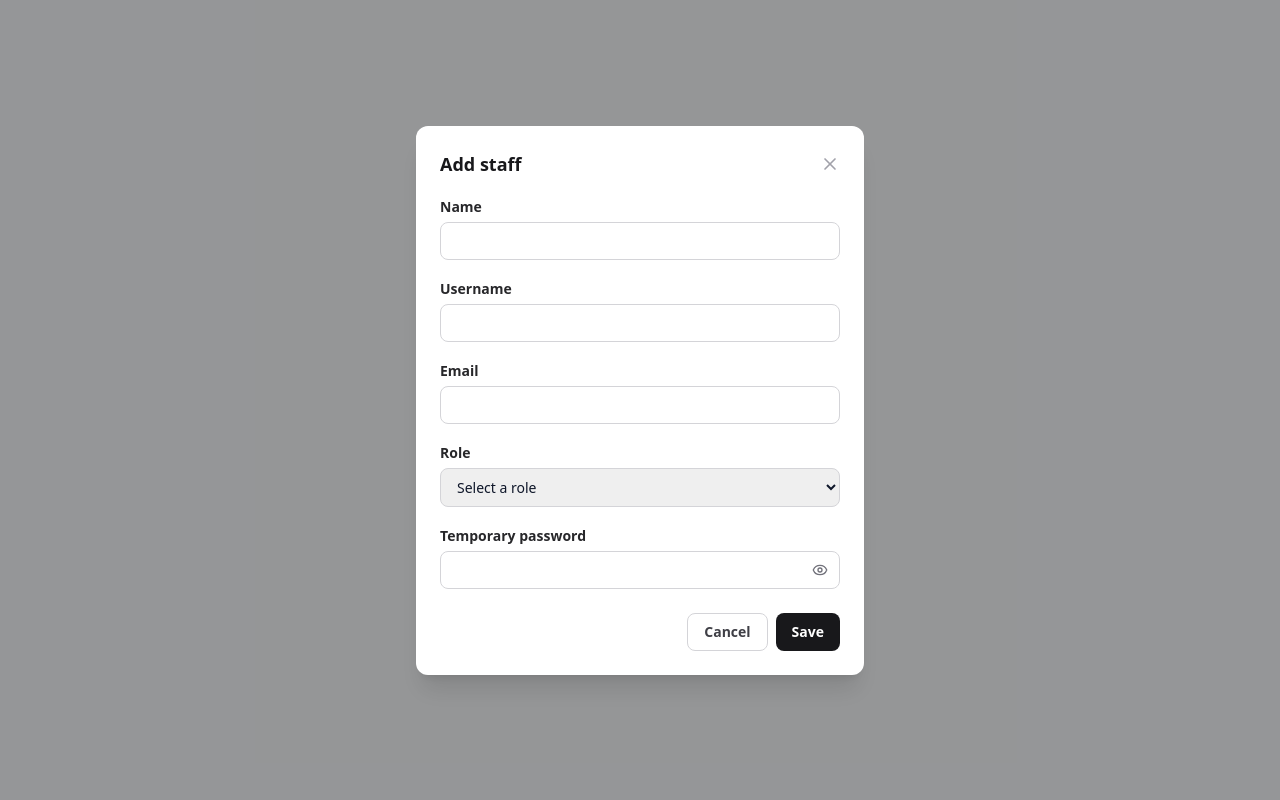
Test: StaffFormModal (IMS-07) › requires a name and username
The width and height of the screenshot is (1280, 800).
What coordinates should you click on to do the following:
click the button "Save"
I would click on:
 (808, 632)
Its box is [776,612,840,650].
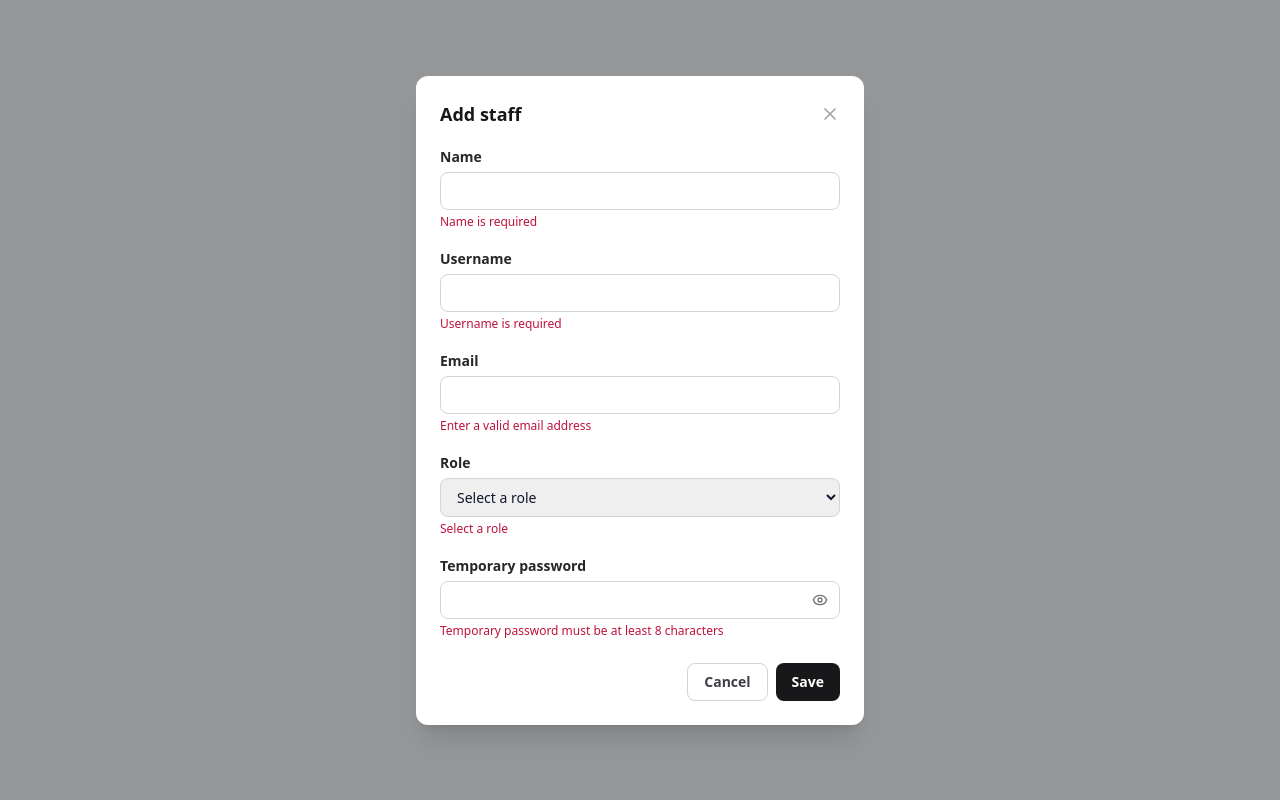
Now the text "Name is required" is shown, box [440,212,537,230]
Now the text "Username is required" is shown, box [440,314,562,332]
